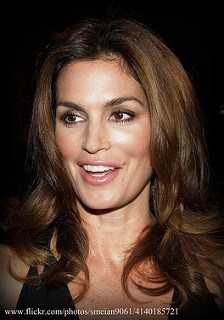mole: (120, 159, 127, 168)
